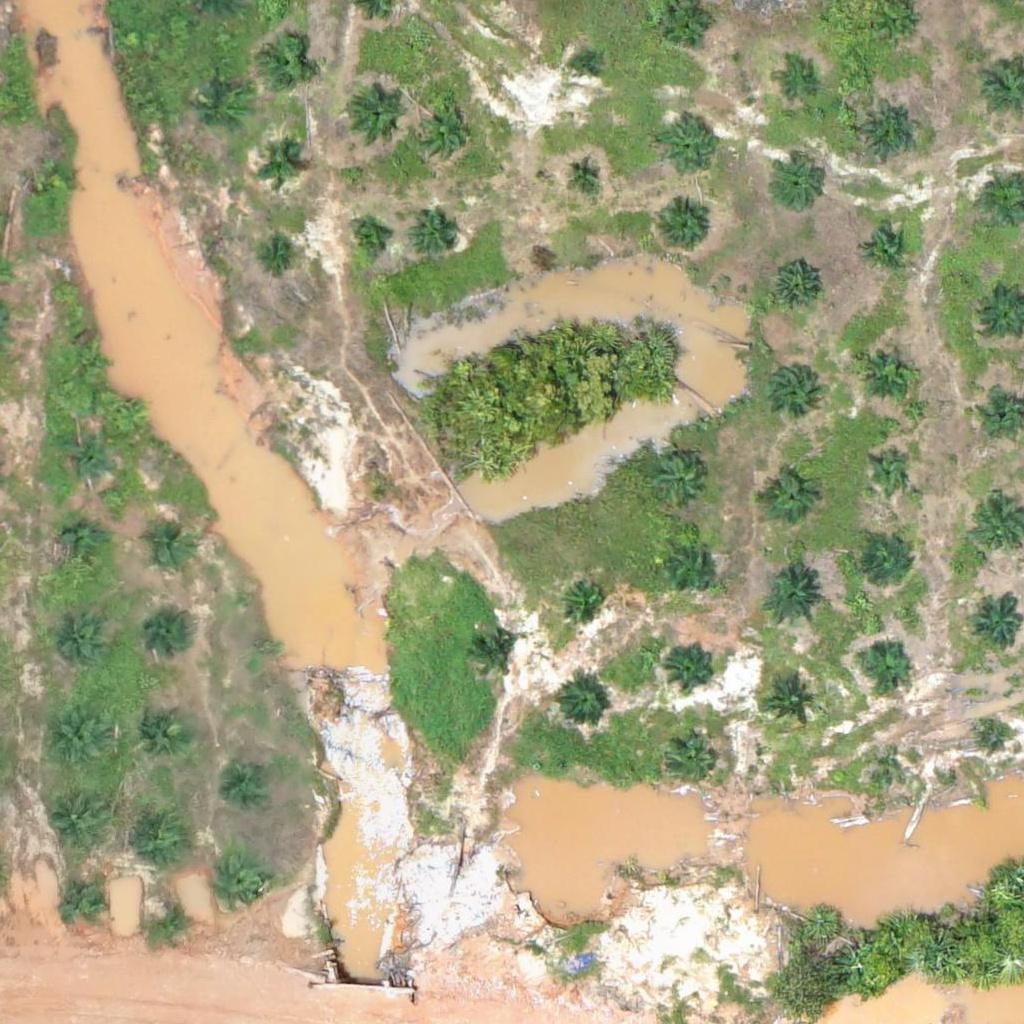Kelapa_Sawit: (47, 612, 110, 675), (45, 709, 108, 772), (132, 805, 195, 868), (46, 790, 109, 853), (761, 568, 824, 631), (858, 100, 921, 163), (412, 101, 475, 164), (132, 700, 194, 763), (652, 197, 714, 260), (856, 339, 918, 402), (656, 115, 718, 178), (346, 83, 408, 146), (59, 875, 109, 926), (145, 896, 195, 947), (859, 635, 909, 686), (863, 536, 913, 587), (761, 473, 811, 524), (772, 159, 822, 210), (655, 458, 705, 509), (666, 541, 716, 592), (666, 639, 716, 690), (766, 678, 816, 729), (769, 260, 819, 311), (860, 224, 910, 275), (148, 611, 198, 661), (62, 437, 112, 487), (58, 522, 108, 572), (144, 521, 194, 571), (766, 363, 816, 413), (557, 679, 607, 729), (216, 862, 266, 912), (226, 757, 276, 807), (668, 740, 718, 790), (560, 575, 610, 625), (469, 631, 519, 681), (261, 40, 311, 90), (410, 209, 460, 259), (199, 90, 249, 140), (775, 65, 813, 103), (70, 344, 108, 382), (260, 145, 298, 183), (261, 236, 299, 274), (348, 219, 386, 257), (880, 8, 917, 46), (869, 452, 906, 490), (567, 156, 604, 194), (38, 158, 75, 196), (980, 721, 1005, 746), (573, 53, 598, 78), (885, 755, 910, 780)
